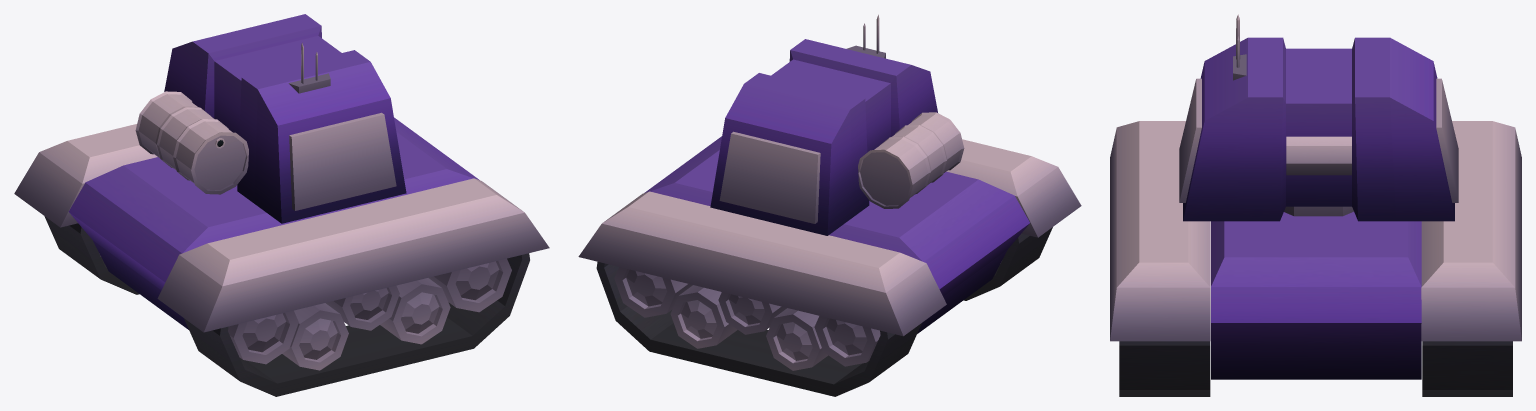
Rendered from Tank_Annihilator.fbx.
3 views of the same model, side by side, from view 1: azimuth 30°, elevation 25°; view 2: azimuth 150°, elevation 25°; view 3: azimuth 270°, elevation 25° (orthographic). The views are drawn at different scales.
Parts seen in each view (by area): view 1: Body Annihilator, Head Annihilator; view 2: Body Annihilator, Head Annihilator; view 3: Body Annihilator, Head Annihilator.
Boxes of the visible parts, left/top/right/bottom form: Body Annihilator: left=14, top=117, right=549, bottom=396; Head Annihilator: left=135, top=14, right=406, bottom=223; Body Annihilator: left=578, top=136, right=1081, bottom=396; Head Annihilator: left=710, top=14, right=964, bottom=235; Body Annihilator: left=1110, top=121, right=1521, bottom=396; Head Annihilator: left=1179, top=14, right=1458, bottom=221.
Bounding box in the file's own units: 564 × 460 × 535.
